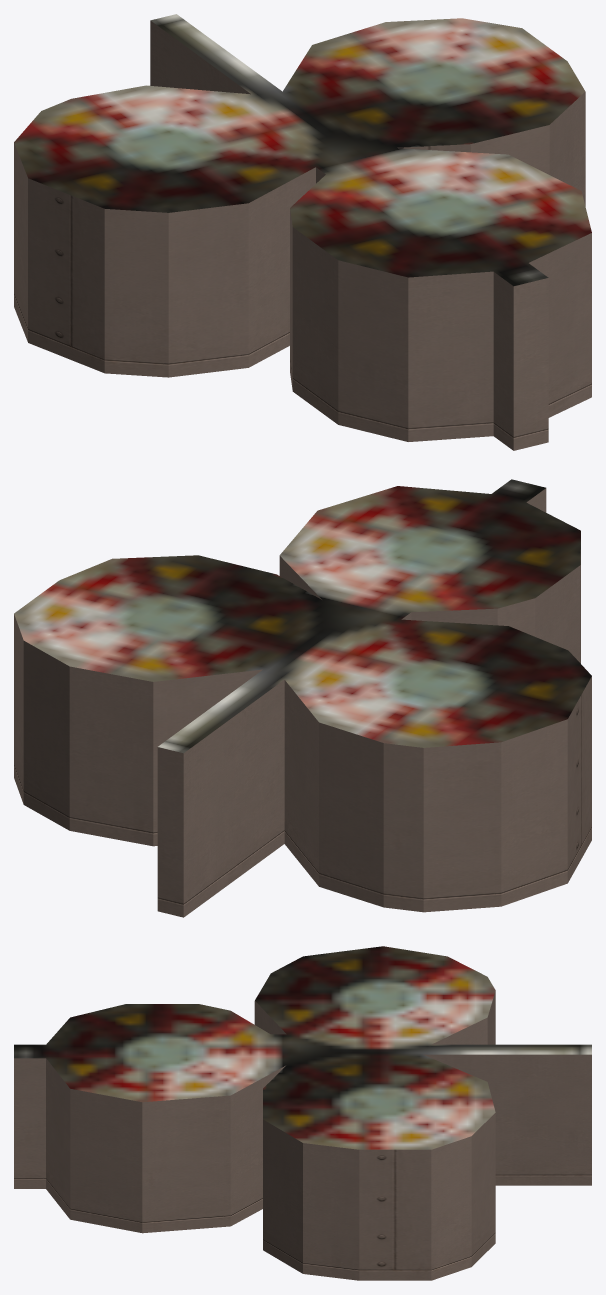
The model's file is fuel_tank_hard_09.glb.
The picture shows the model from 3 angles, top to bottom: view 1: azimuth 30°, elevation 25°; view 2: azimuth 150°, elevation 25°; view 3: azimuth 270°, elevation 25°; orthographic projection. The views are drawn at different scales.
Parts seen in each view (by area): view 1: buildings/saxarba/fuel_tanks/fuel_tank_hard_09; view 2: buildings/saxarba/fuel_tanks/fuel_tank_hard_09; view 3: buildings/saxarba/fuel_tanks/fuel_tank_hard_09.
Boxes of the visible parts, <box> form: buildings/saxarba/fuel_tanks/fuel_tank_hard_09: <box>14,14,591,450</box>; buildings/saxarba/fuel_tanks/fuel_tank_hard_09: <box>14,479,591,917</box>; buildings/saxarba/fuel_tanks/fuel_tank_hard_09: <box>14,946,591,1280</box>.
Bounding box in the file's own units: 60 × 18 × 72.
